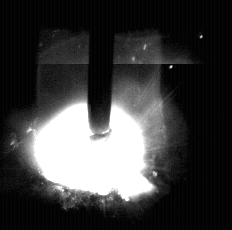arame: (88, 0, 112, 139)
poca: (33, 0, 146, 230)
